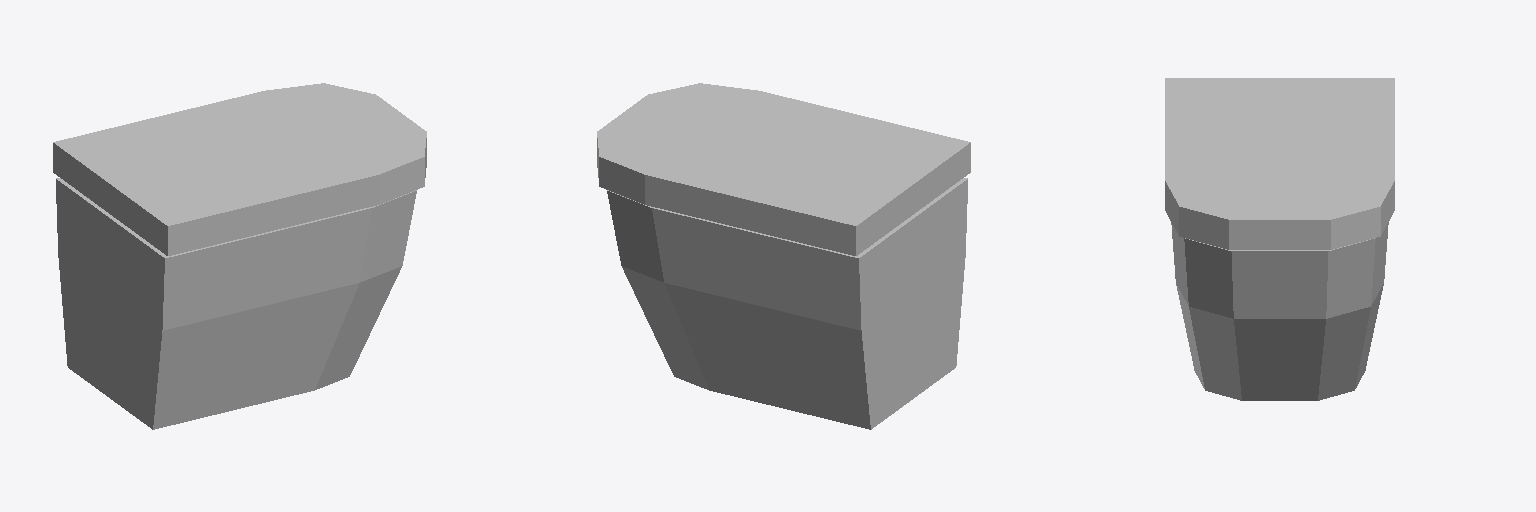
File: toilet.obj
3 renders of one model, left to right at view 1: azimuth 30°, elevation 25°; view 2: azimuth 150°, elevation 25°; view 3: azimuth 270°, elevation 25°, orthographic.
Parts seen in each view (by area): view 1: toilet_Cube.015; view 2: toilet_Cube.015; view 3: toilet_Cube.015.
Boxes of the visible parts, x1,y1,x2,y2 form: toilet_Cube.015: [53, 83, 426, 429]; toilet_Cube.015: [597, 83, 970, 429]; toilet_Cube.015: [1165, 78, 1394, 400].
Size of the model in its own units: 0.5915 by 0.416 by 0.4039.